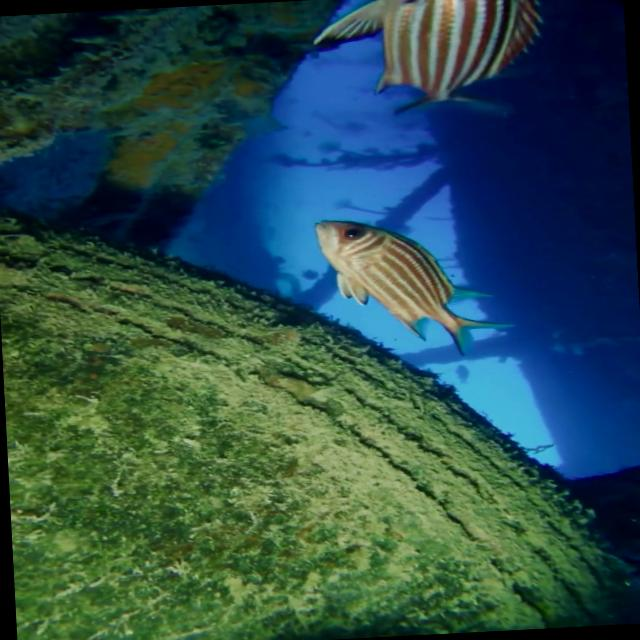Asker Baligi: (312, 210, 520, 364), (308, 0, 552, 124)
